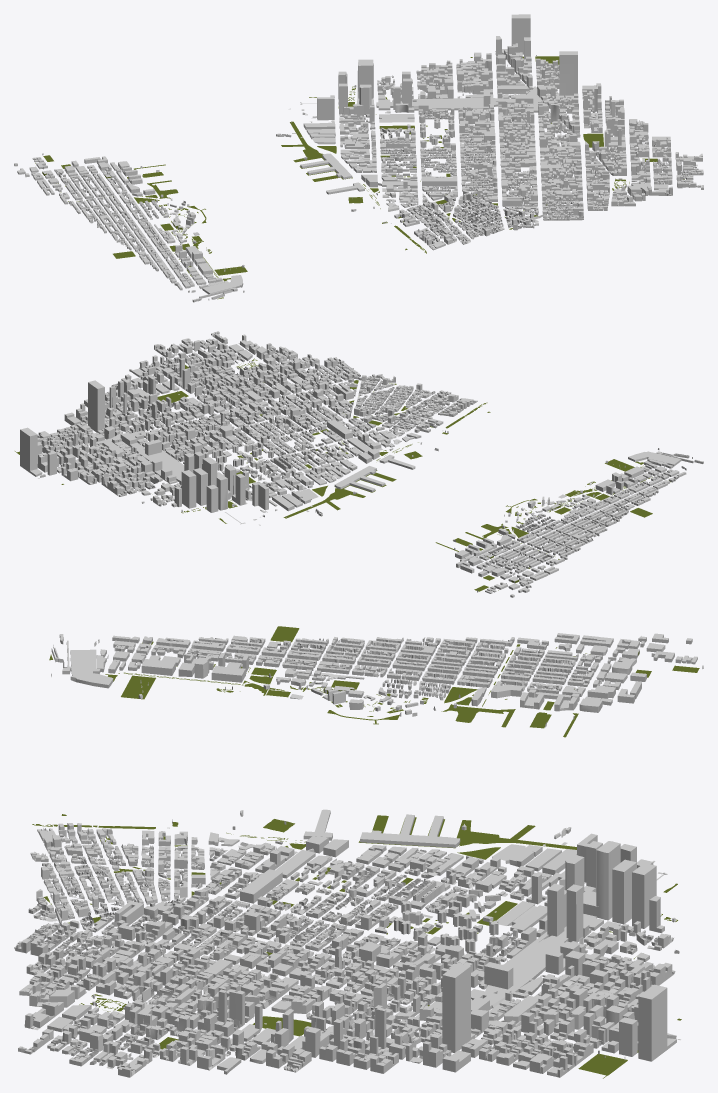
Rendered from area7_lod0-transformed.glb.
3 views of the same model, one above another, from view 1: azimuth 30°, elevation 25°; view 2: azimuth 150°, elevation 25°; view 3: azimuth 270°, elevation 25° (orthographic). The views are drawn at different scales.
Visible parts, largest first — view 1: Areas:building.005, Areas:leisure.004; view 2: Areas:building.005, Areas:leisure.004; view 3: Areas:building.005, Areas:leisure.004.
Boxes of the visible parts, box(x1,y1,x2,y2) form: Areas:building.005: box(14, 14, 703, 302); Areas:leisure.004: box(35, 56, 684, 299); Areas:building.005: box(20, 331, 703, 597); Areas:leisure.004: box(15, 358, 670, 591); Areas:building.005: box(14, 633, 703, 1077); Areas:leisure.004: box(32, 626, 699, 1078).
Bounding box in the file's own units: 5706 × 443 × 3676.
